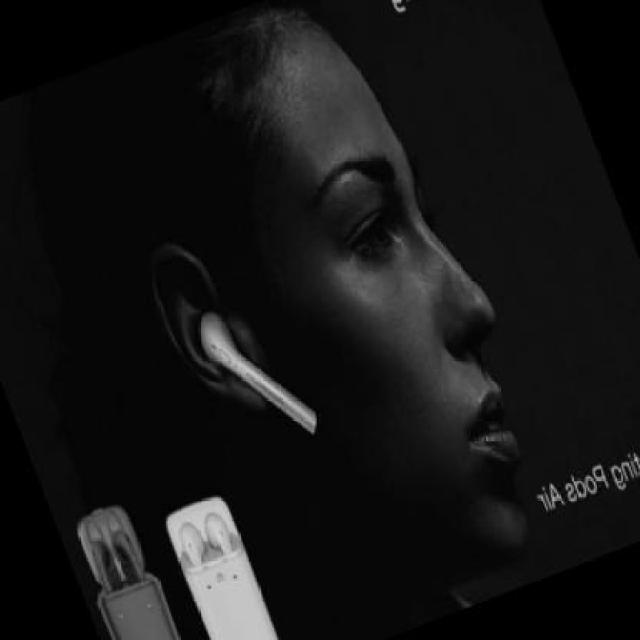earphone: (176, 315, 364, 438), (167, 503, 322, 630), (69, 509, 167, 628)
